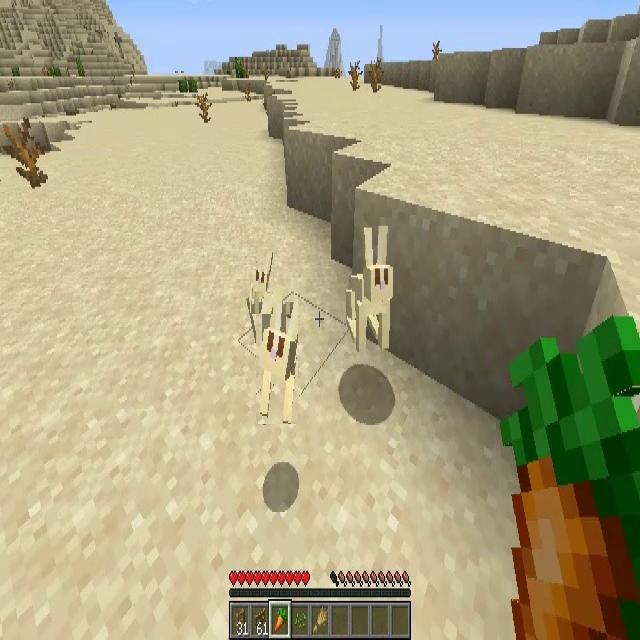rabbit: (345, 223, 393, 349), (256, 302, 298, 424), (250, 251, 273, 314)
